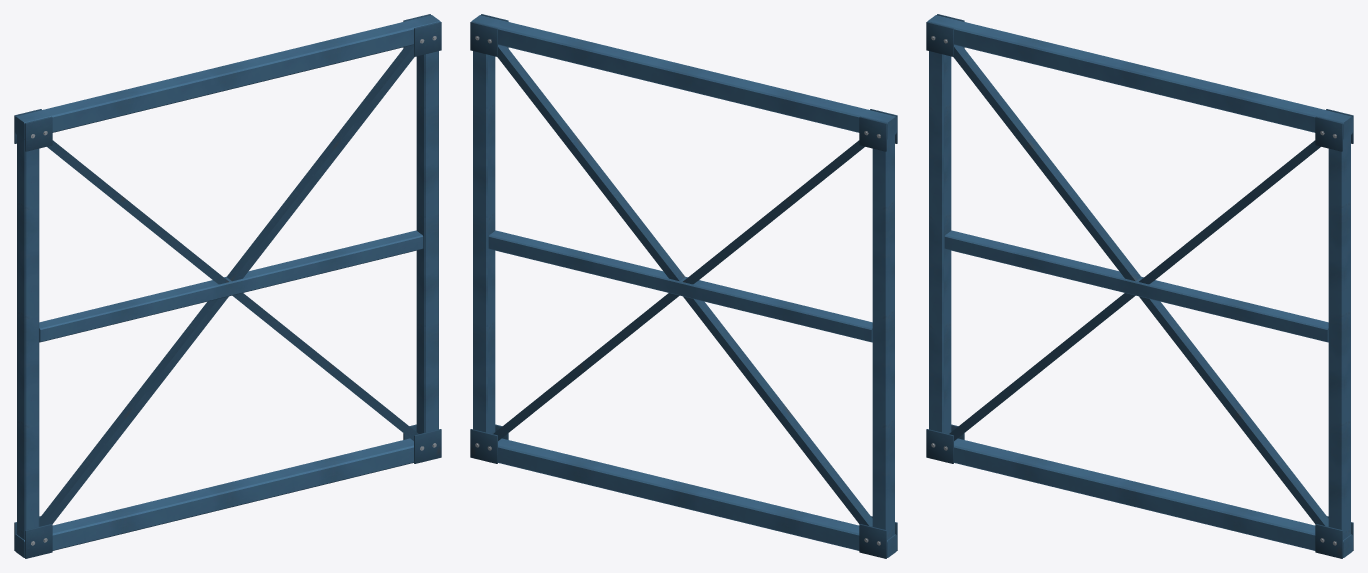
Rendered from support_truss_large.glb.
3 views of the same model, side by side, from view 1: azimuth 30°, elevation 25°; view 2: azimuth 150°, elevation 25°; view 3: azimuth 330°, elevation 25° (orthographic).
Visible parts, largest first — view 1: Body.009; view 2: Body.009; view 3: Body.009.
Part boxes in pixels (x1,y1,x2,y2): Body.009: (14, 14, 441, 558); Body.009: (470, 14, 897, 558); Body.009: (926, 14, 1353, 558).
Size of the model in its own units: 2 by 2 by 0.1072.
Materials: 3 (3 with a texture image).
